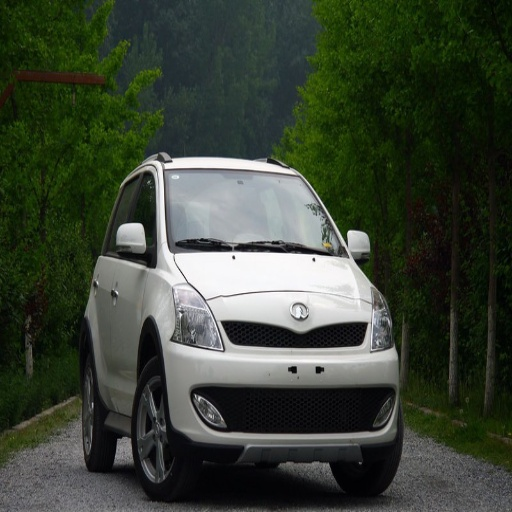front_bumper: (163, 291, 401, 460)
front_left_light: (369, 297, 395, 350)
front_right_door: (108, 164, 156, 408)
front_right_light: (173, 286, 223, 350)
hood: (178, 254, 375, 300)
